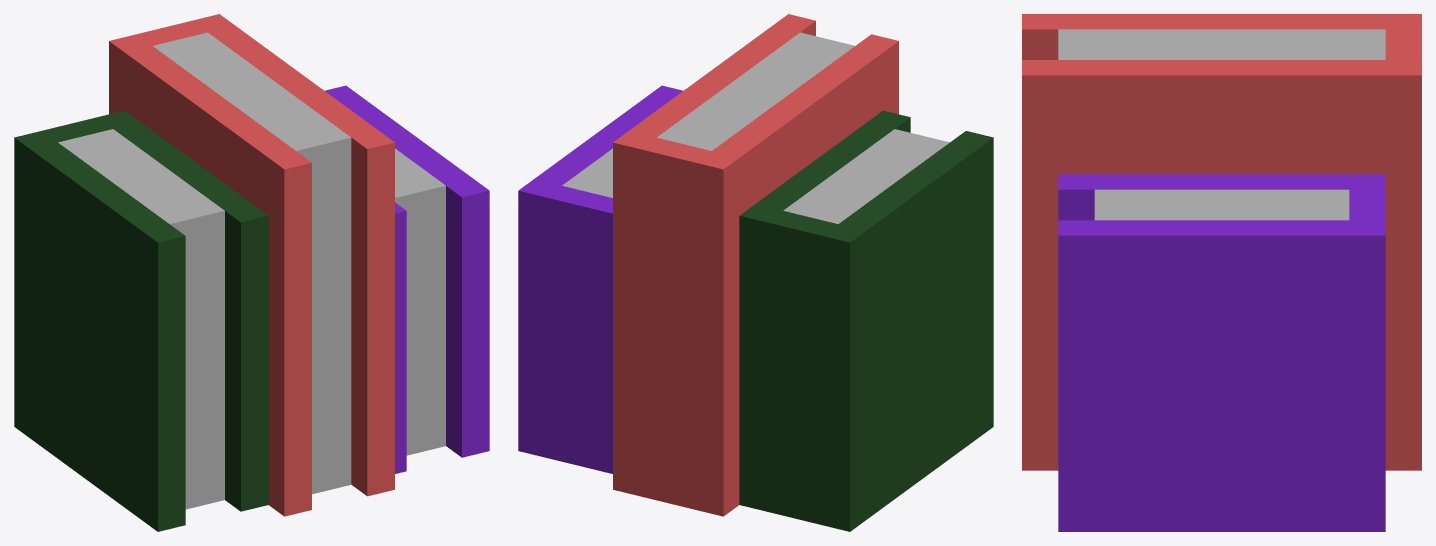
Rendered from books_01.glb.
The picture shows the model from 3 angles, left to right: view 1: azimuth 30°, elevation 25°; view 2: azimuth 150°, elevation 25°; view 3: azimuth 270°, elevation 25°; orthographic projection. The views are drawn at different scales.
Visible parts, largest first — view 1: Untitled; view 2: Untitled; view 3: Untitled.
Boxes of the visible parts, left/top/right/bottom form: Untitled: left=14, top=14, right=489, bottom=531; Untitled: left=518, top=14, right=993, bottom=531; Untitled: left=1022, top=14, right=1421, bottom=531.
Bounding box in the file's own units: 0.36 × 0.36 × 0.33.
Materials: 1 (1 with a texture image).
